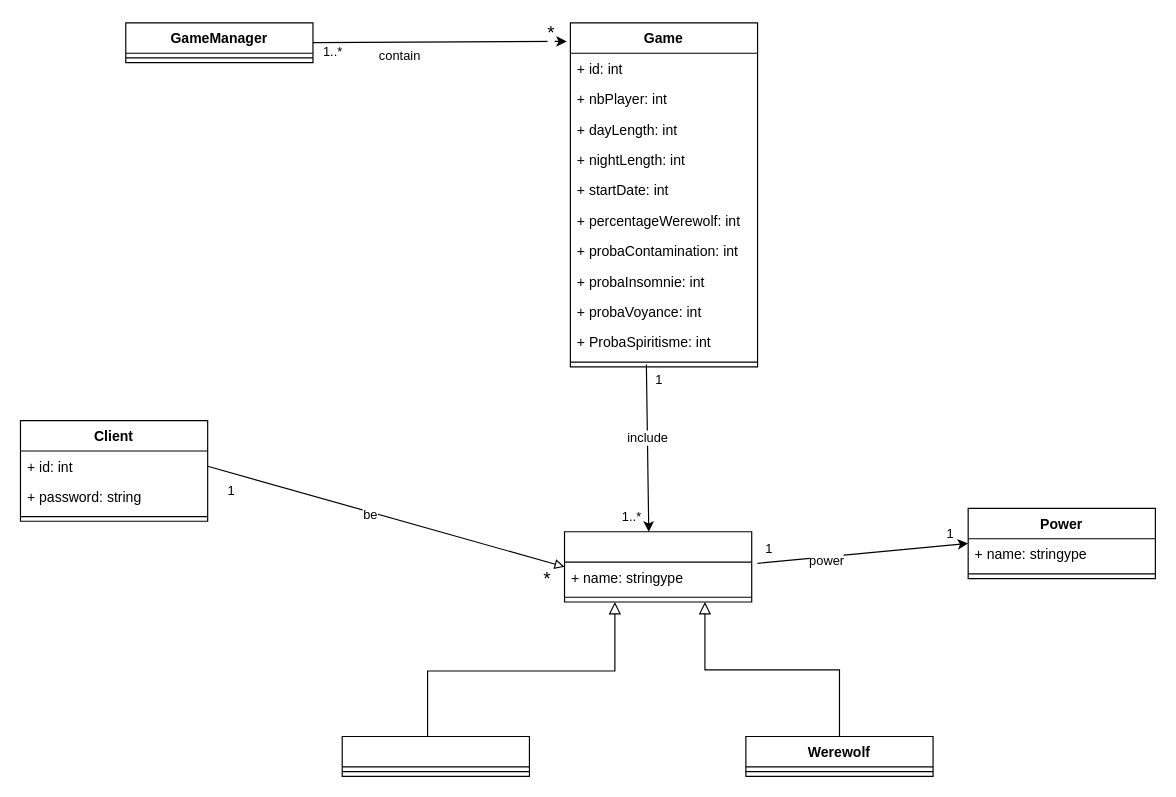
Some shapes in this 1176 by 797 pixel diagram are drawn without their labels. Each missing label, with the box of its shape:
Player: (563, 531, 752, 602)
Villager: (341, 735, 529, 776)
